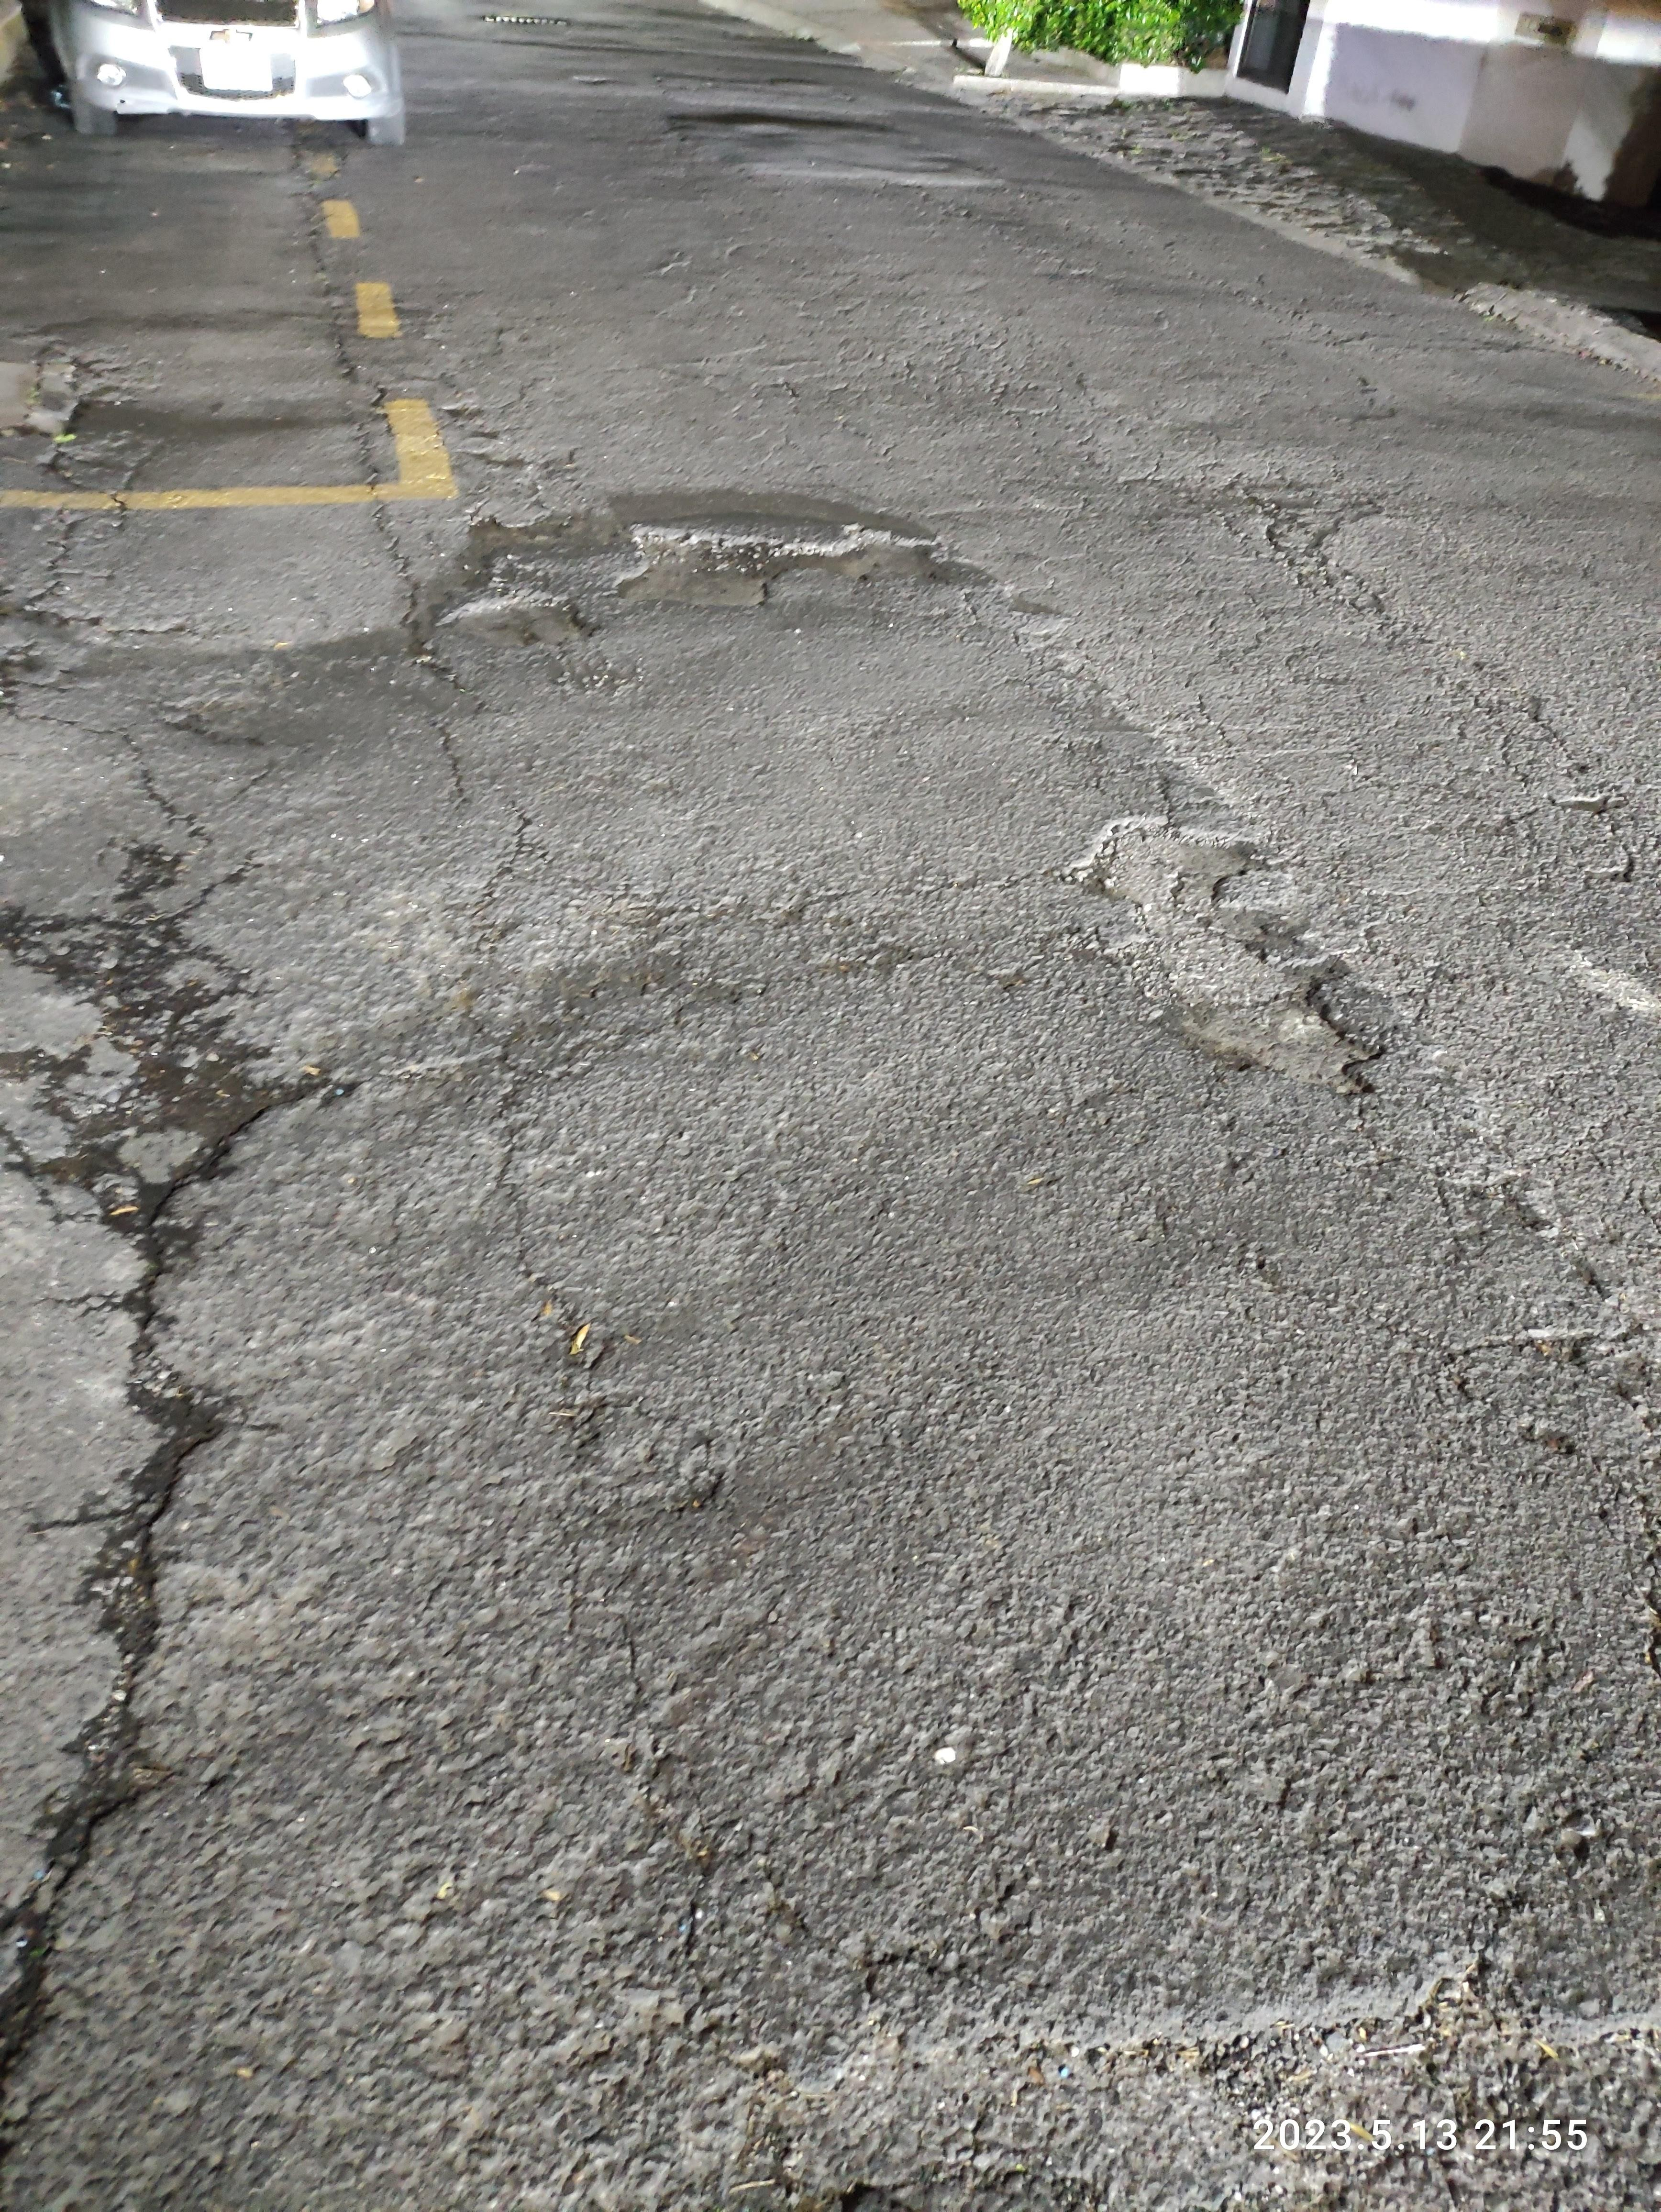alligator-crack: (1181, 443, 1661, 869), (0, 335, 167, 666)
crack: (0, 768, 270, 2109), (424, 708, 654, 1417), (281, 134, 452, 687)
pothole: (398, 468, 993, 684), (1042, 808, 1408, 1116)
